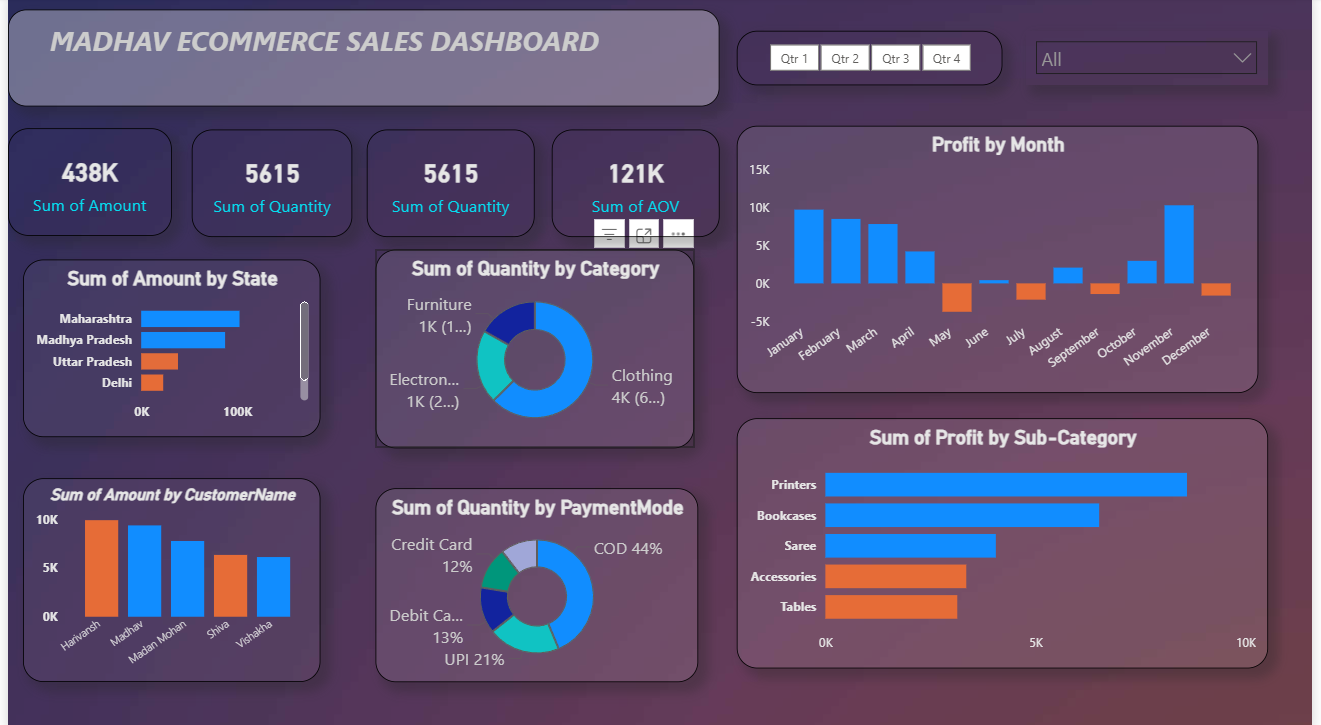

This screenshot's page, from the dashboard's own definition file:
{"tool":"powerbi","page":{"name":"Page 1","canvas":[1280,720],"ordinal":0},"visuals":[{"type":"textbox","box":[0,12.3,698.5,95],"z":0},{"type":"columnChart","title":"Profit by Month","fields":{"Y":["Details.Profit"],"Category":["Orders.Order Date.Variation.Date Hierarchy.Month"]},"box":[714.9,126.2,511.8,262.1],"z":1000},{"type":"barChart","fields":{"Category":["Details.Sub-Category"],"Y":["Details.Profit"]},"box":[714.9,413,521.4,245.6],"z":2000},{"type":"donutChart","fields":{"Y":["Details.Quantity"],"Category":["Details.Category"]},"box":[360.9,248.4,312.9,194.9],"z":3000},{"type":"donutChart","fields":{"Y":["Details.Quantity"],"Category":["Details.PaymentMode"]},"box":[360.9,481.6,317,190.7],"z":4000},{"type":"card","fields":{"Values":["Details.Amount"]},"box":[0,129,160.5,105.7],"z":5000},{"type":"card","fields":{"Values":["Details.Quantity"]},"box":[179.8,130.4,157.8,105.7],"z":6000},{"type":"card","fields":{"Values":["Details.Quantity"]},"box":[352.7,130.4,164.7,105.7],"z":7000},{"type":"card","fields":{"Values":["Details.AOV"]},"box":[533.8,130.4,164.7,105.7],"z":8000},{"type":"barChart","fields":{"Category":["Orders.State"],"Y":["Details.Amount"]},"box":[15.1,258,292.3,174.3],"z":9000},{"type":"columnChart","fields":{"Category":["Orders.CustomerName"],"Y":["Details.Amount"]},"box":[15.1,472,292.3,200.3],"z":10000},{"type":"slicer","fields":{"Values":["Orders.Order Date.Variation.Date Hierarchy.Quarter"]},"box":[714.9,32.9,260.7,53.5],"z":10001},{"type":"slicer","fields":{"Values":["Orders.State"]},"box":[999,32.9,237.4,53.5],"z":10002}]}

Visuals, with their boxes in screenshot pixels (x1, y1, x2, y2), scaled from the page's 1280x720 canvas onto the 1321x725 screenshot:
textbox: [x1=0, y1=12, x2=721, y2=108]
"Profit by Month" columnChart: [x1=738, y1=127, x2=1266, y2=391]
barChart - Details.Sub-Category x Details.Profit: [x1=738, y1=416, x2=1276, y2=663]
donutChart - Details.Quantity x Details.Category: [x1=372, y1=250, x2=695, y2=446]
donutChart - Details.Quantity x Details.PaymentMode: [x1=372, y1=485, x2=700, y2=677]
card - Details.Amount: [x1=0, y1=130, x2=166, y2=236]
card - Details.Quantity: [x1=186, y1=131, x2=348, y2=238]
card - Details.Quantity: [x1=364, y1=131, x2=534, y2=238]
card - Details.AOV: [x1=551, y1=131, x2=721, y2=238]
barChart - Orders.State x Details.Amount: [x1=16, y1=260, x2=317, y2=435]
columnChart - Orders.CustomerName x Details.Amount: [x1=16, y1=475, x2=317, y2=677]
slicer - Orders.Order Date.Variation.Date Hierarchy.Quarter: [x1=738, y1=33, x2=1007, y2=87]
slicer - Orders.State: [x1=1031, y1=33, x2=1276, y2=87]
